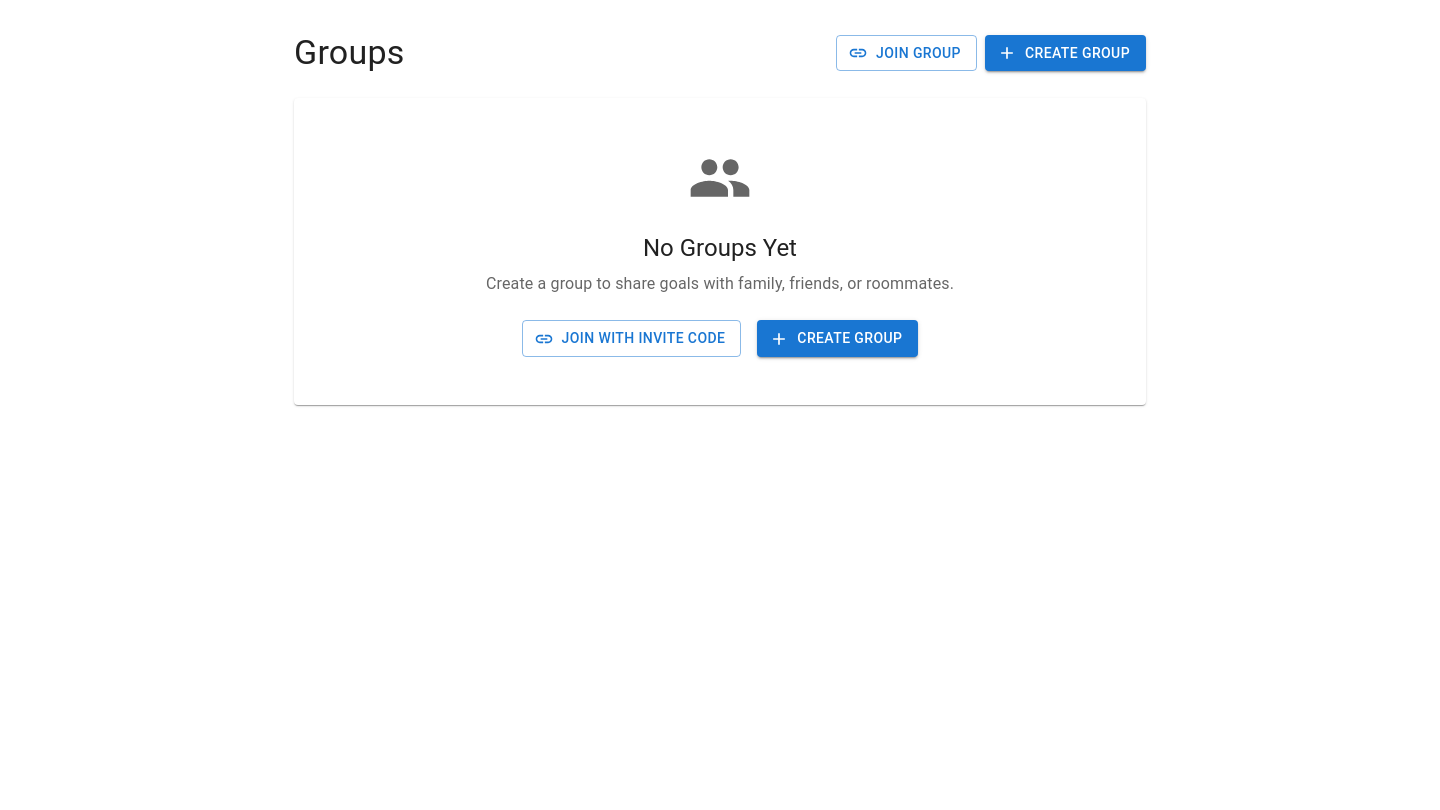
it: Groups › when logged in › create group dialog › shows error when create fails
Click the 1st button "Create Group" at (1066, 53), box [985,35,1146,71]
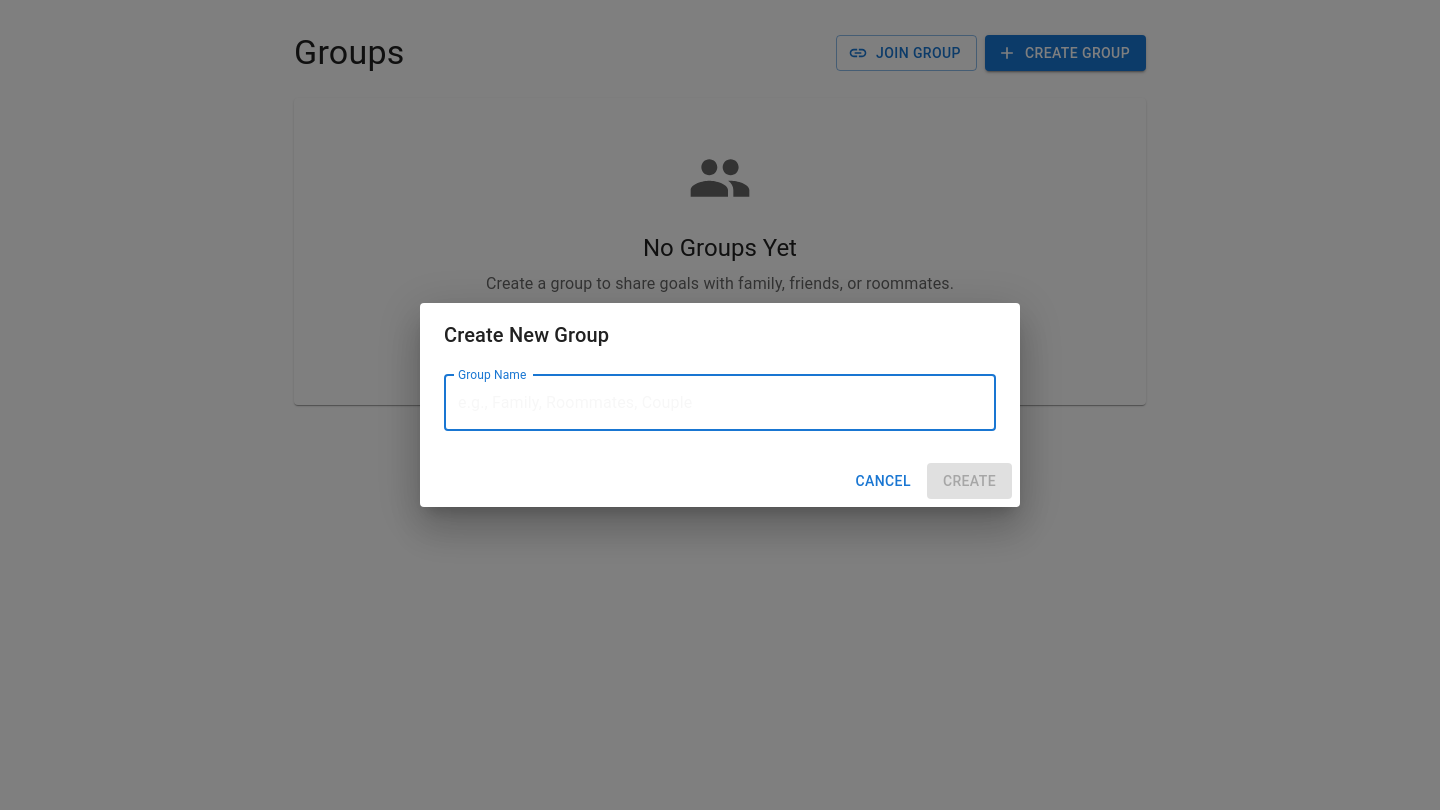
Type "Test" into the field labelled "Group Name" at (720, 403), box [444,375,996,431]
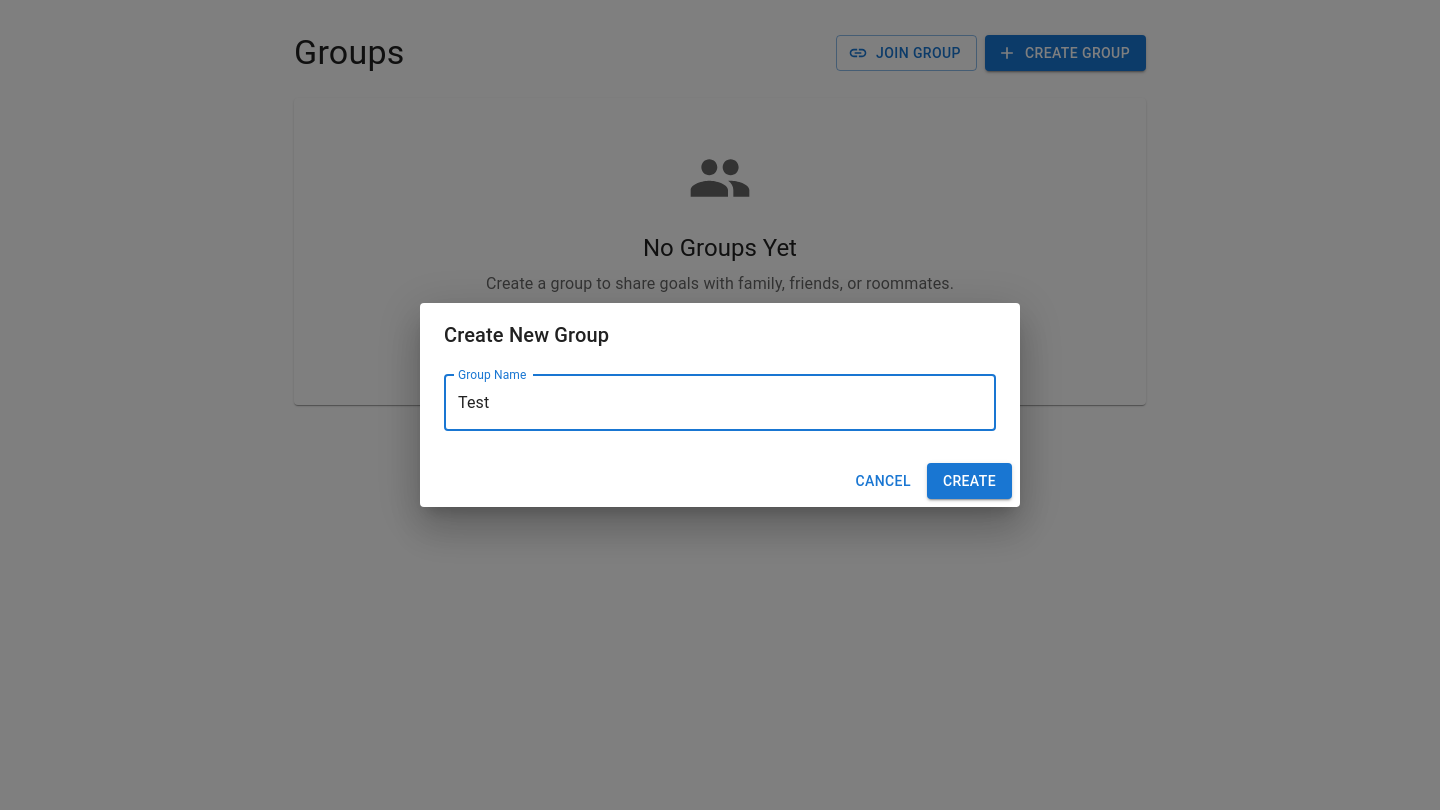
Click the button "Create" at (969, 481), box [927,463,1012,499]
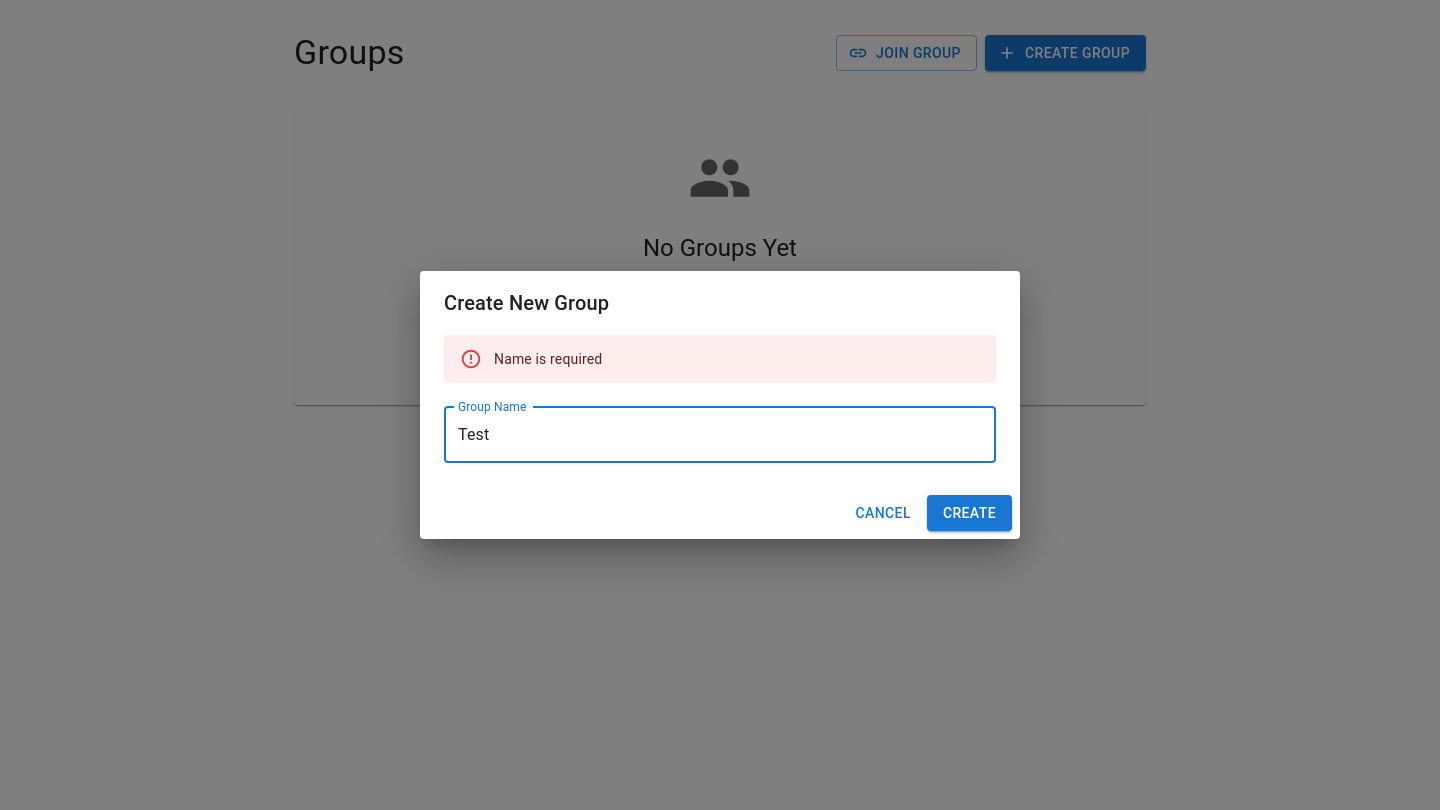
Check: the text "Name is required" is shown, box [494,351,602,367]
